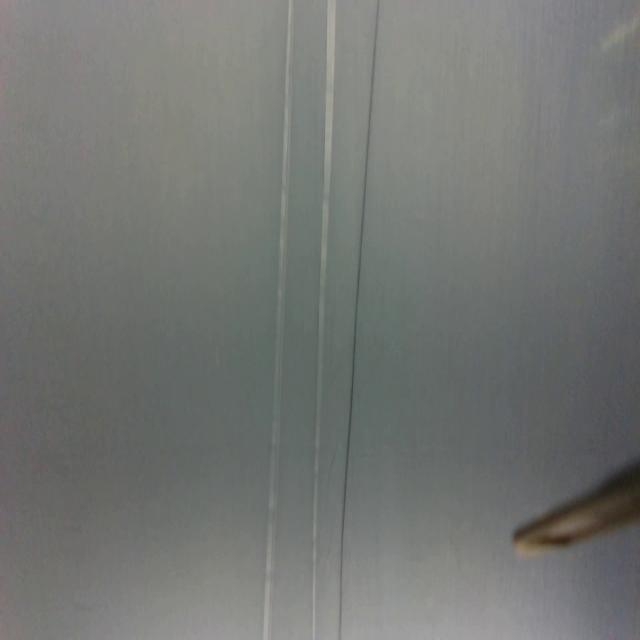crease: (337, 0, 385, 639), (260, 0, 295, 640), (312, 0, 338, 639)
